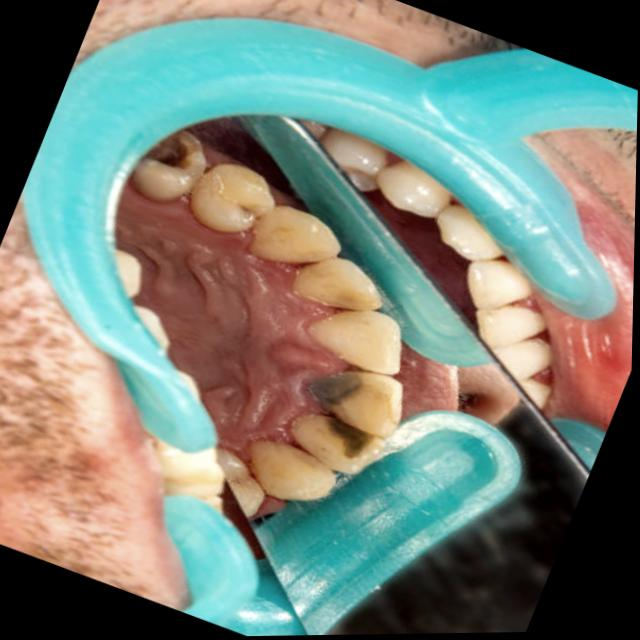cariess: (310, 371, 400, 451), (132, 130, 205, 201)
